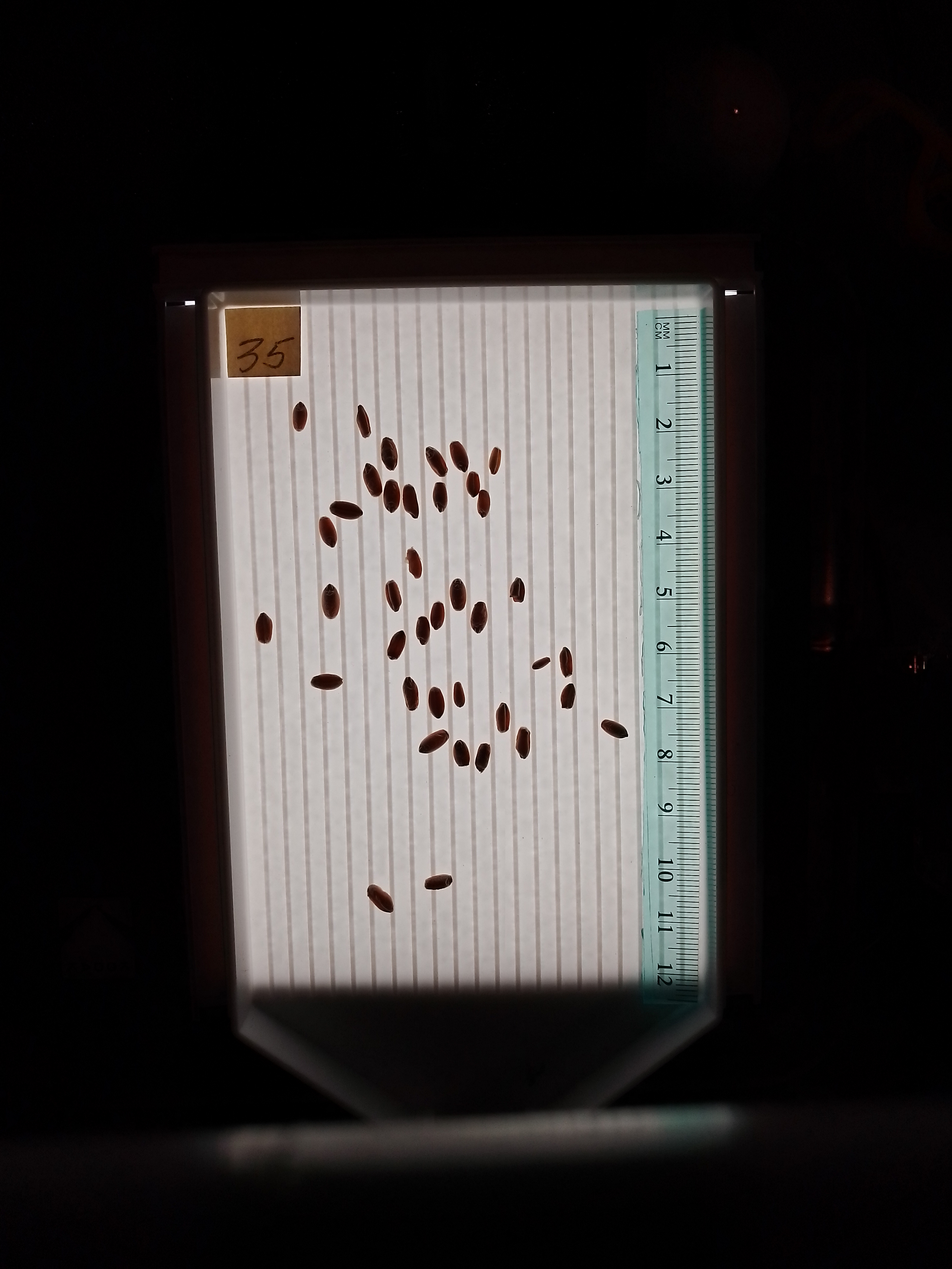seed mask: (367, 884, 394, 913), (419, 730, 447, 753), (321, 585, 340, 618), (426, 447, 446, 477), (331, 500, 361, 520), (363, 465, 381, 497), (381, 438, 398, 471), (383, 480, 400, 513), (402, 485, 419, 517), (450, 441, 468, 471), (471, 602, 488, 633), (428, 687, 445, 718), (601, 719, 627, 739), (403, 678, 419, 710), (256, 614, 273, 644), (320, 517, 337, 547), (450, 580, 466, 611), (388, 632, 406, 659), (311, 674, 341, 690), (356, 406, 371, 437), (425, 874, 452, 891), (386, 581, 401, 611), (516, 728, 531, 758), (407, 549, 422, 578), (495, 704, 510, 733), (433, 483, 448, 512), (510, 578, 526, 603), (453, 741, 469, 766), (416, 616, 430, 644), (559, 648, 573, 676), (476, 744, 490, 772), (293, 403, 307, 431), (431, 602, 445, 629), (488, 447, 502, 474), (561, 684, 575, 709), (477, 490, 490, 516), (467, 473, 481, 496), (453, 683, 465, 707), (533, 656, 550, 670)
